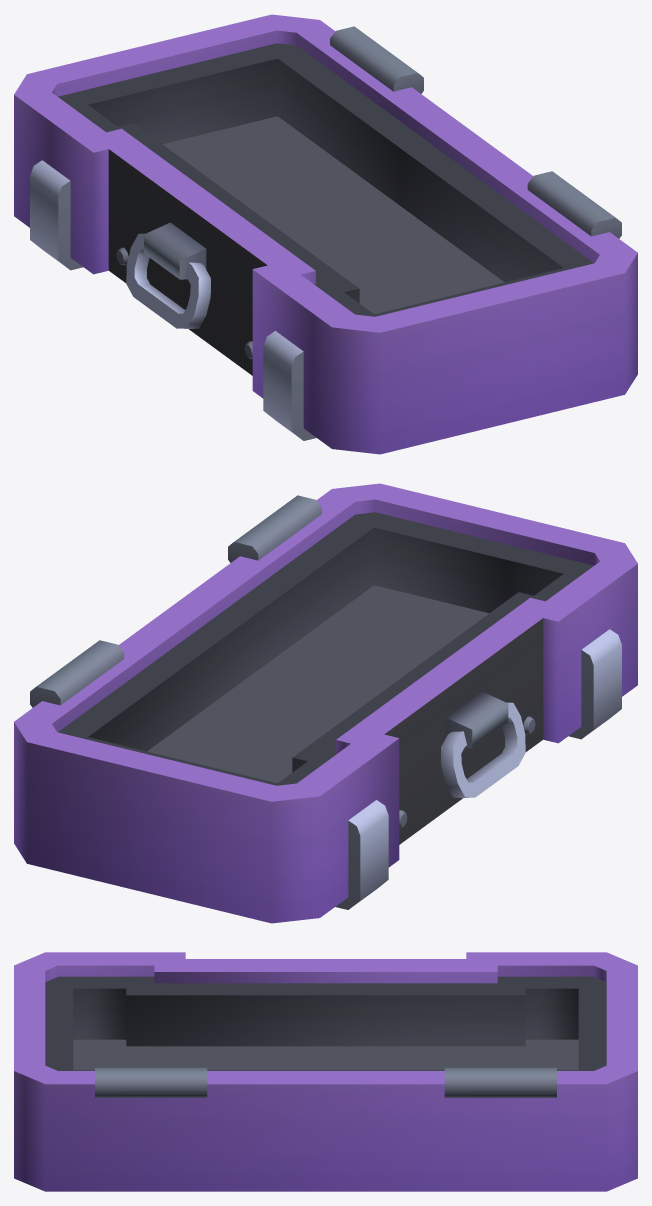
3 renders of one model, top to bottom at view 1: azimuth 30°, elevation 25°; view 2: azimuth 150°, elevation 25°; view 3: azimuth 270°, elevation 25°, orthographic. The views are drawn at different scales.
Parts seen in each view (by area): view 1: crate-medium; view 2: crate-medium; view 3: crate-medium.
Boxes of the visible parts, x1=… form: crate-medium: x1=14, y1=14, x2=637, y2=454; crate-medium: x1=14, y1=483, x2=637, y2=923; crate-medium: x1=14, y1=952, x2=637, y2=1191.
Size of the model in its own units: 0.4946 by 0.207 by 0.9.
1 material, 1 textured.
